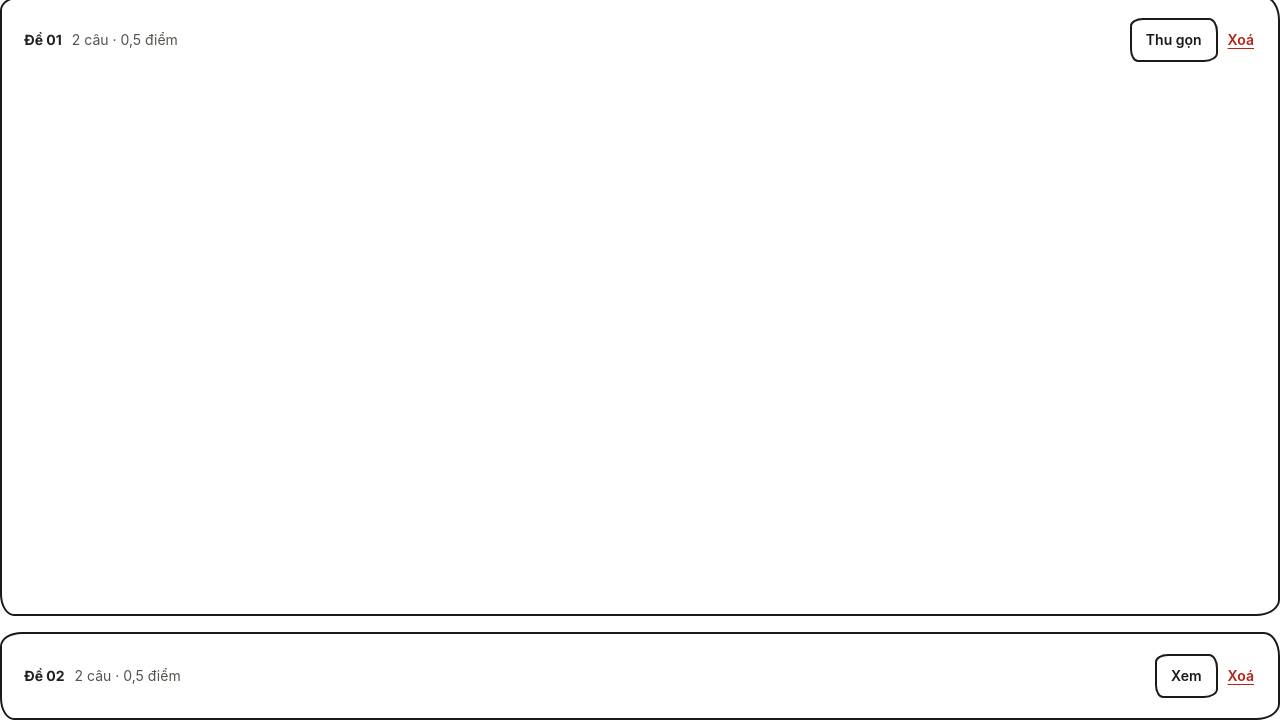
Test: BankPapers (Nguyên đề) › delete: confirm names the exam, posts the id; a 409 shows the BE message and keeps the list
This screenshot has width=1280, height=720.
(page scrolled)
Click the button with aria-label "Xoá Đề 02" at (1241, 676), box [1226,654,1256,698]
(page scrolled)
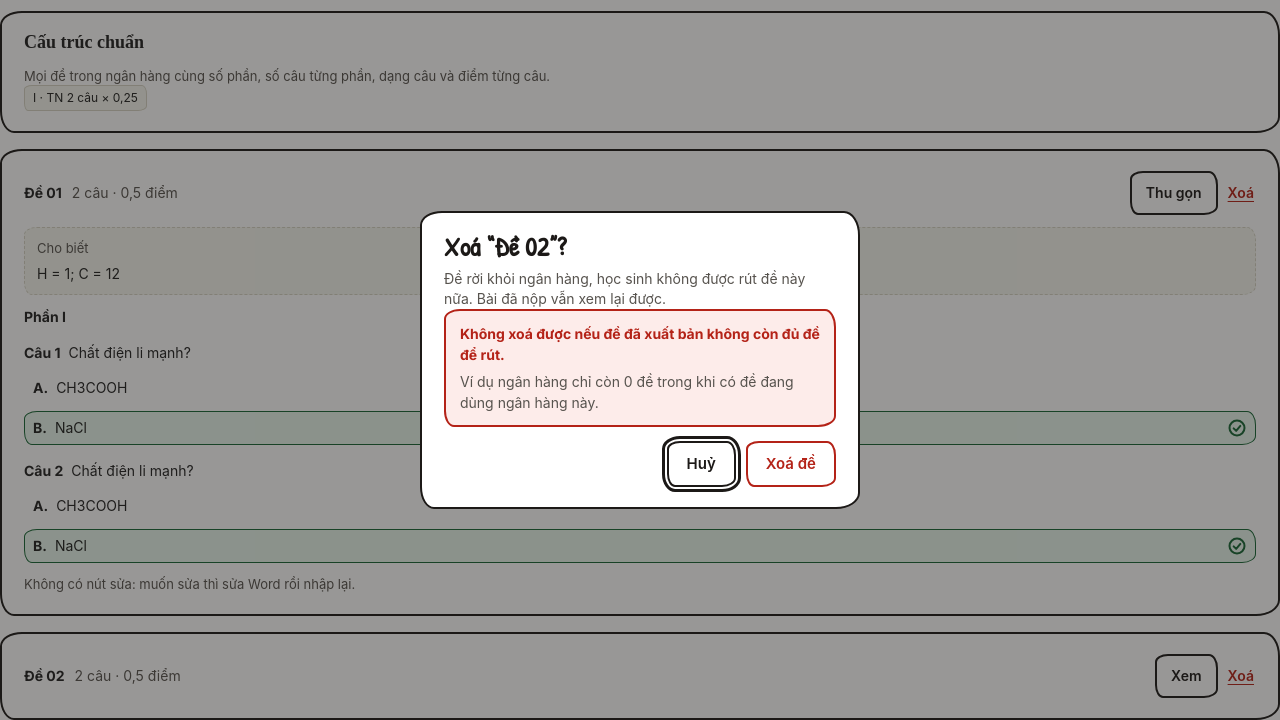
Now the heading "Xoá “Đề 02”?" is shown, box [444,233,566,261]
Click the button "Xoá đề" at (791, 464), box [746,441,836,487]
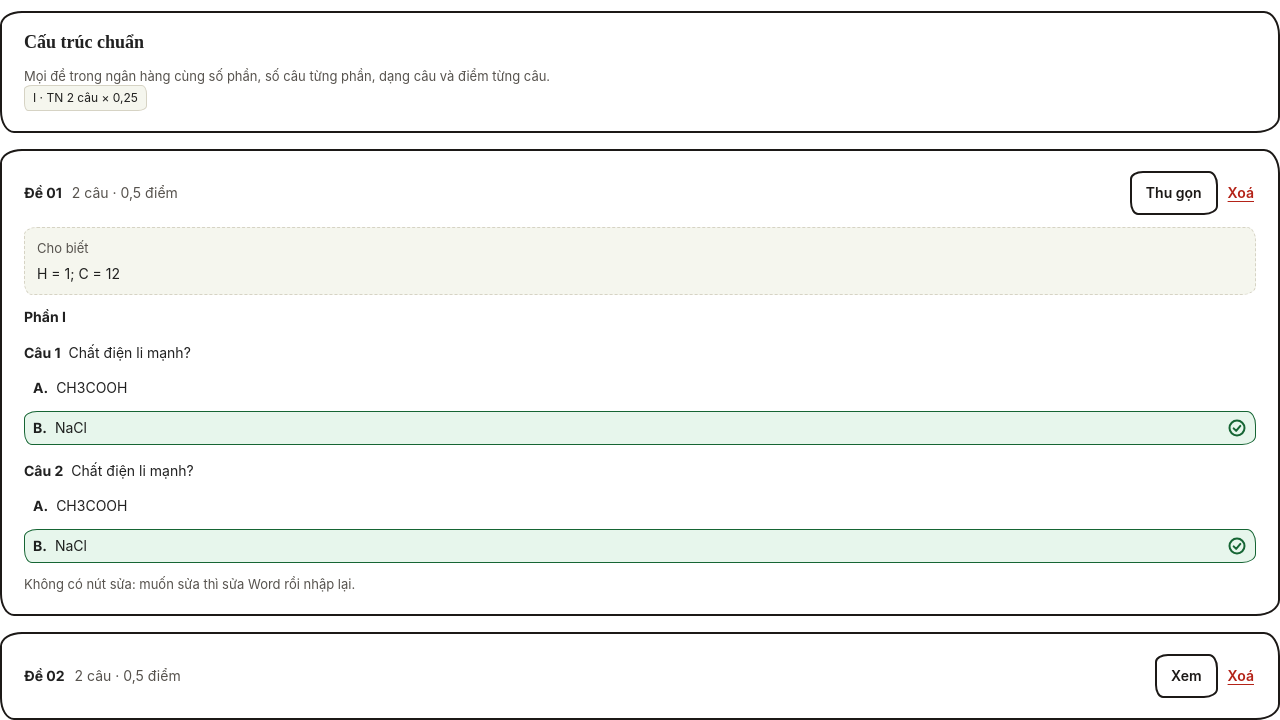
Expected: the text "Đề 02" is shown, [24,666,65,686]
Now the heading "Xoá “Đề 02”?" is gone
